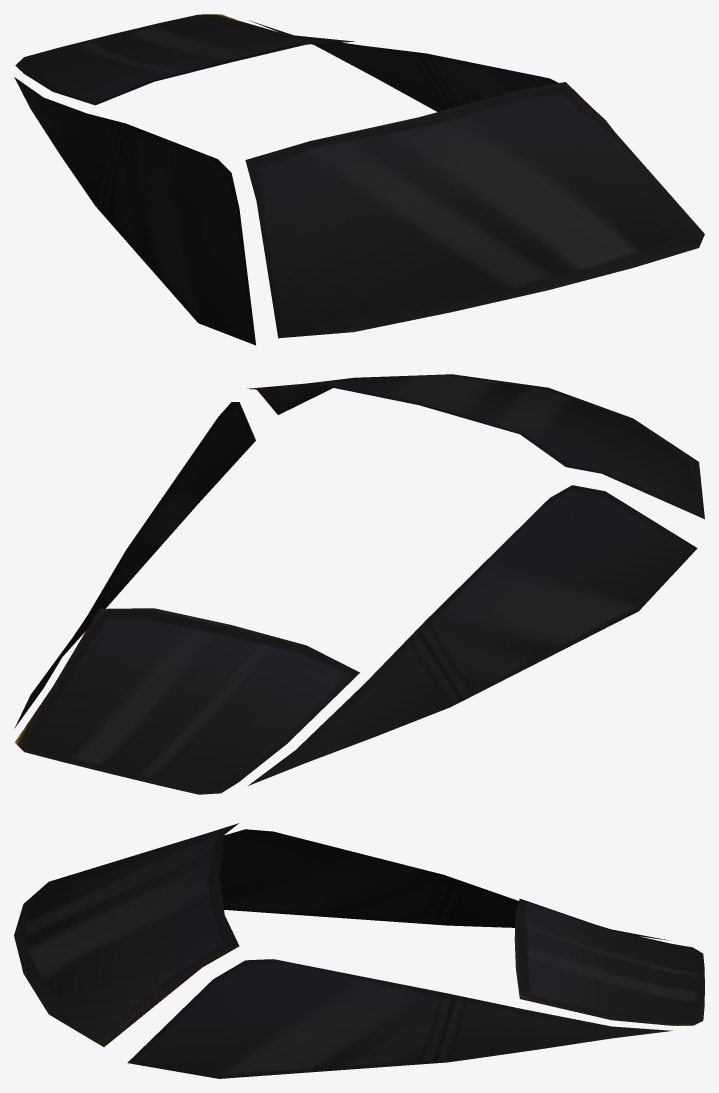
File: car_a2glass.FBX
The picture shows the model from 3 angles, top to bottom: view 1: azimuth 30°, elevation 25°; view 2: azimuth 150°, elevation 25°; view 3: azimuth 270°, elevation 25°; orthographic projection. The views are drawn at different scales.
Parts seen in each view (by area): view 1: car_a2glass; view 2: car_a2glass; view 3: car_a2glass.
Boxes of the visible parts, x1=… form: car_a2glass: x1=14, y1=14, x2=704, y2=345; car_a2glass: x1=14, y1=374, x2=704, y2=794; car_a2glass: x1=14, y1=823, x2=704, y2=1078.
Bounding box in the file's own units: 159 × 52.37 × 273.
